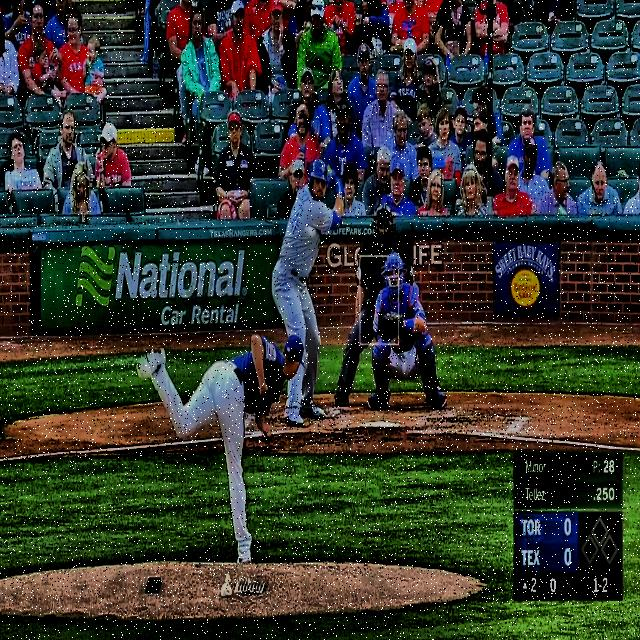baseball: (304, 224, 316, 240)
